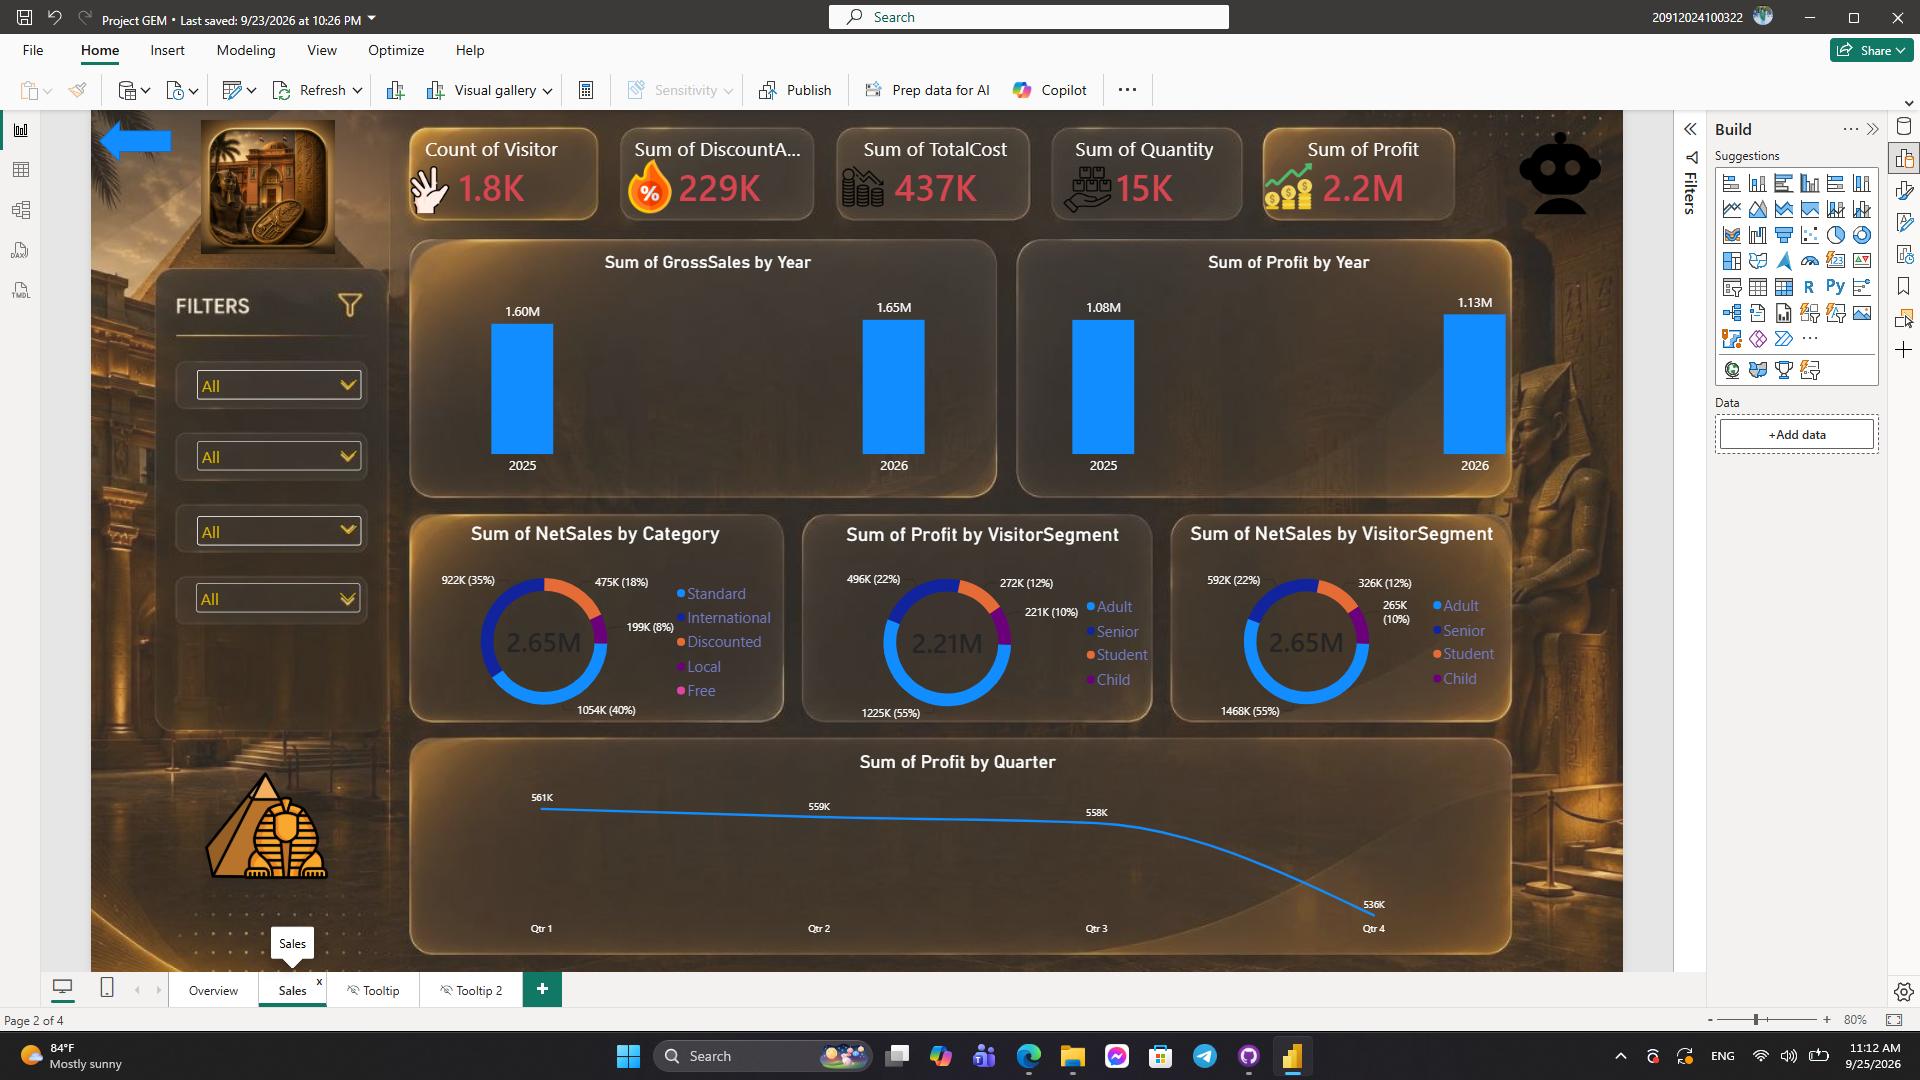

The page's visual inventory and layout, read from the dashboard file:
{"tool":"powerbi","page":{"name":"Sales ","canvas":[1920,1080],"ordinal":1},"visuals":[{"type":"cardVisual","fields":{"Data":["CountNonNull(DimVisitor.VisitorKey)"]},"box":[371.1,12,262,133],"z":0},{"type":"cardVisual","fields":{"Data":["Sum(FactSales.Profit)"]},"box":[1463.1,12,262,133],"z":1000},{"type":"cardVisual","fields":{"Data":["Sum(FactSales.Quantity)"]},"box":[1189.1,12,262,133],"z":2000},{"type":"cardVisual","fields":{"Data":["Sum(FactSales.TotalCost)"]},"box":[927,12,262,133],"z":3000},{"type":"cardVisual","fields":{"Data":["Sum(FactSales.DiscountAmount)"]},"box":[665.2,12.1,244.9,133],"z":4000},{"type":"slicer","fields":{"Values":["DimVisitor.Country"]},"box":[127.7,320.5,216.2,68],"z":5000},{"type":"slicer","fields":{"Values":["DimVisitor.Gender"]},"box":[127.7,504.1,216.2,68],"z":6000},{"type":"slicer","fields":{"Values":["DimTicket.Category"]},"box":[126.4,587.9,216.2,68],"z":7000},{"type":"slicer","fields":{"Values":["DimDate.Date.Variation.Date Hierarchy.Year"]},"box":[127.7,409.7,216.2,68],"z":8000},{"type":"columnChart","fields":{"Category":["DimDate.Date.Variation.Date Hierarchy.Year","DimDate.Date.Variation.Date Hierarchy.Quarter","DimDate.Date.Variation.Date Hierarchy.Month","DimDate.Date.Variation.Date Hierarchy.Day"],"Y":["Sum(FactSales.Profit)"]},"box":[1190.4,163.6,621.4,312.9],"z":9000},{"type":"columnChart","fields":{"Category":["DimDate.Date.Variation.Date Hierarchy.Year","DimDate.Date.Variation.Date Hierarchy.Quarter","DimDate.Date.Variation.Date Hierarchy.Month","DimDate.Date.Variation.Date Hierarchy.Day"],"Y":["Sum(FactSales.GrossSales)"]},"box":[462.9,163.6,621.4,312.9],"z":10000},{"type":"donutChart","fields":{"Category":["DimTicket.Category"],"Y":["Sum(FactSales.NetSales)"]},"box":[387,501.9,489.8,285.7],"z":11000},{"type":"donutChart","fields":{"Category":["DimVisitor.VisitorSegment"],"Y":["Sum(FactSales.Profit)"]},"box":[884.4,503.4,465.5,286],"z":12000},{"type":"donutChart","fields":{"Category":["DimVisitor.VisitorSegment"],"Y":["Sum(FactSales.NetSales)"]},"box":[1350,502.8,433.6,286],"z":13000},{"type":"lineChart","fields":{"Category":["DimDate.Date.Variation.Date Hierarchy.Quarter"],"Y":["Sum(FactSales.Profit)"]},"box":[409.7,788.7,1352.7,266],"z":14000},{"type":"shape","box":[10.6,12.1,90.7,52.9],"z":14001},{"type":"image","box":[113.4,814.9,216.2,170.8],"z":14002},{"type":"image","box":[107.3,12.1,228.3,167.8],"z":14003},{"type":"image","box":[665.2,62,69.5,68],"z":14004},{"type":"image","box":[1212.5,69.5,71.1,60.5],"z":14005},{"type":"image","box":[926.7,69.5,80.1,51.4],"z":14006},{"type":"image","box":[370.4,69.5,107.3,60.5],"z":14007},{"type":"image","box":[1471,62,59,68],"z":14008},{"type":"image","box":[1773.4,27.2,136.1,102.8],"z":14009}]}

Visuals, with their boxes on the page's 1920x1080 design canvas (x1, y1, x2, y2). These are canvas units, not pixel positions in the 1920x1080 screenshot, which may show the page scaled, cropped or inside an application window:
cardVisual - CountNonNull(DimVisitor.VisitorKey): (371,12,633,145)
cardVisual - Sum(FactSales.Profit): (1463,12,1725,145)
cardVisual - Sum(FactSales.Quantity): (1189,12,1451,145)
cardVisual - Sum(FactSales.TotalCost): (927,12,1189,145)
cardVisual - Sum(FactSales.DiscountAmount): (665,12,910,145)
slicer - DimVisitor.Country: (128,320,344,388)
slicer - DimVisitor.Gender: (128,504,344,572)
slicer - DimTicket.Category: (126,588,343,656)
slicer - DimDate.Date.Variation.Date Hierarchy.Year: (128,410,344,478)
columnChart - DimDate.Date.Variation.Date Hierarchy.Year x DimDate.Date.Variation.Date Hierarchy.Quarter: (1190,164,1812,476)
columnChart - DimDate.Date.Variation.Date Hierarchy.Year x DimDate.Date.Variation.Date Hierarchy.Quarter: (463,164,1084,476)
donutChart - DimTicket.Category x Sum(FactSales.NetSales): (387,502,877,788)
donutChart - DimVisitor.VisitorSegment x Sum(FactSales.Profit): (884,503,1350,789)
donutChart - DimVisitor.VisitorSegment x Sum(FactSales.NetSales): (1350,503,1784,789)
lineChart - DimDate.Date.Variation.Date Hierarchy.Quarter x Sum(FactSales.Profit): (410,789,1762,1055)
shape: (11,12,101,65)
image: (113,815,330,986)
image: (107,12,336,180)
image: (665,62,735,130)
image: (1212,70,1284,130)
image: (927,70,1007,121)
image: (370,70,478,130)
image: (1471,62,1530,130)
image: (1773,27,1910,130)
